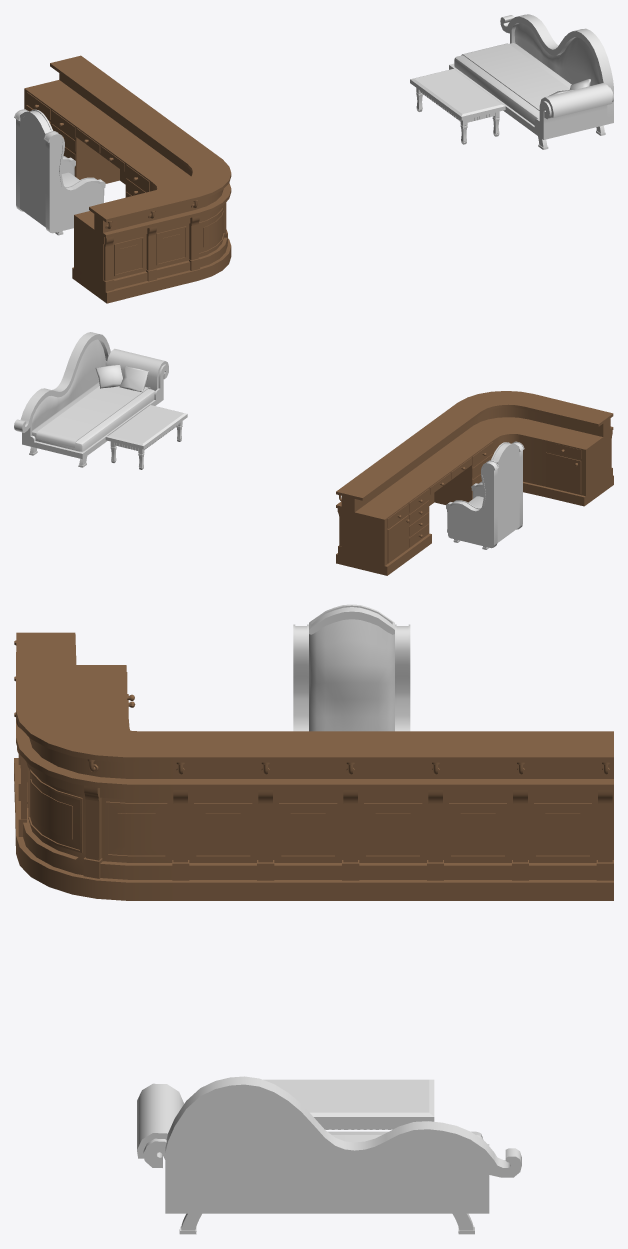
Rendered from Reception.fbx.
3 renders of one model, top to bottom at view 1: azimuth 30°, elevation 25°; view 2: azimuth 150°, elevation 25°; view 3: azimuth 270°, elevation 25°, orthographic. The views are drawn at different scales.
Parts seen in each view (by area): view 1: Cube, Cube.013, Cube.016, Cube.011, Cube.014, Cube.008, Cube.007, Cube.001, Pillars.001, Cube.006, Cube.005, Cube.021 (+1 smaller); view 2: Cube, Cube.011, Cube.013, Cube.016, Cube.014, Cube.008, Cube.007, Cube.001, Cube.022, Cube.006, Cube.021, Cube.023 (+4 smaller); view 3: Cube, Cube.008, Cube.014, Pillars, Cube.007, Cube.016, Cube.021, Cube.017, Cube.006, Pillars.002, Cube.018.
Boxes of the visible parts, x1=… form: Cube: x1=24, y1=55, x2=231, y2=303; Cube.013: x1=16, y1=119, x2=102, y2=235; Cube.016: x1=410, y1=68, x2=505, y2=144; Cube.011: x1=461, y1=43, x2=569, y2=110; Cube.014: x1=20, y1=116, x2=45, y2=227; Cube.008: x1=514, y1=23, x2=600, y2=85; Cube.007: x1=500, y1=14, x2=613, y2=118; Cube.001: x1=454, y1=43, x2=571, y2=125; Pillars.001: x1=103, y1=215, x2=199, y2=291; Cube.006: x1=539, y1=83, x2=612, y2=117; Cube.005: x1=534, y1=86, x2=613, y2=133; Cube.021: x1=449, y1=63, x2=613, y2=149; Cube: x1=336, y1=391, x2=613, y2=575; Cube.011: x1=36, y1=386, x2=148, y2=447; Cube.013: x1=448, y1=450, x2=522, y2=549; Cube.016: x1=105, y1=404, x2=187, y2=469; Cube.014: x1=497, y1=448, x2=519, y2=542; Cube.008: x1=32, y1=339, x2=105, y2=430; Cube.007: x1=14, y1=332, x2=110, y2=441; Cube.001: x1=32, y1=382, x2=155, y2=451; Cube.022: x1=546, y1=452, x2=581, y2=494; Cube.006: x1=106, y1=348, x2=168, y2=389; Cube.021: x1=22, y1=395, x2=163, y2=467; Cube.023: x1=387, y1=515, x2=409, y2=563; Cube: x1=14, y1=632, x2=613, y2=900; Cube.008: x1=176, y1=1094, x2=482, y2=1202; Cube.014: x1=309, y1=619, x2=394, y2=731; Pillars: x1=172, y1=790, x2=613, y2=880; Cube.007: x1=165, y1=1076, x2=521, y2=1202; Cube.016: x1=263, y1=1079, x2=434, y2=1123; Cube.021: x1=165, y1=1144, x2=489, y2=1234; Cube.017: x1=293, y1=624, x2=410, y2=731; Cube.006: x1=137, y1=1083, x2=183, y2=1158; Pillars.002: x1=83, y1=785, x2=102, y2=878; Cube.018: x1=309, y1=604, x2=394, y2=634.
Size of the model in its own units: 746 by 145 by 410.
